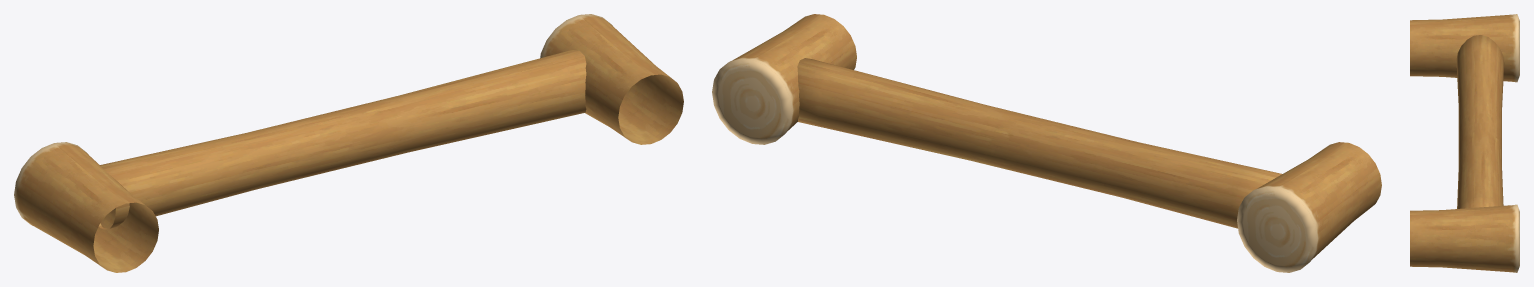
Rendered from FenceWood3.FBX.
The picture shows the model from 3 angles, left to right: view 1: azimuth 30°, elevation 25°; view 2: azimuth 150°, elevation 25°; view 3: azimuth 270°, elevation 25°; orthographic projection. The views are drawn at different scales.
Parts seen in each view (by area): view 1: polySurface2985__Wood_01; view 2: polySurface2985__Wood_01; view 3: polySurface2985__Wood_01.
Part boxes in pixels (bbox=[...]): polySurface2985__Wood_01: bbox=[14, 14, 683, 272]; polySurface2985__Wood_01: bbox=[712, 14, 1381, 272]; polySurface2985__Wood_01: bbox=[1410, 14, 1519, 272].
Size of the model in its own units: 588 by 78 by 124.
